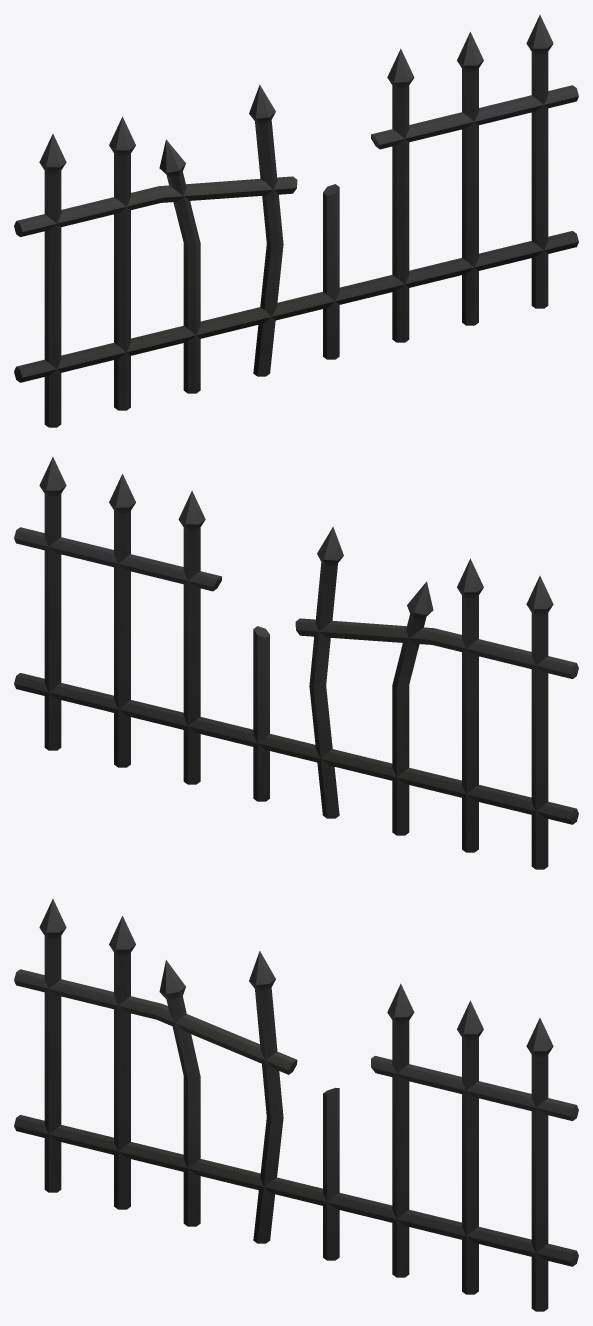
File: fence_seperate_broken.glb
3 renders of one model, top to bottom at view 1: azimuth 30°, elevation 25°; view 2: azimuth 150°, elevation 25°; view 3: azimuth 330°, elevation 25°, orthographic.
Visible parts, largest first — view 1: fence_seperate_broken; view 2: fence_seperate_broken; view 3: fence_seperate_broken.
Boxes of the visible parts, x1,y1,x2,y2 form: fence_seperate_broken: (14,15,578,427); fence_seperate_broken: (14,457,578,869); fence_seperate_broken: (14,899,578,1311).
Bounding box in the file's own units: 4 × 2 × 0.1694.
Materials: 1 (1 with a texture image).
